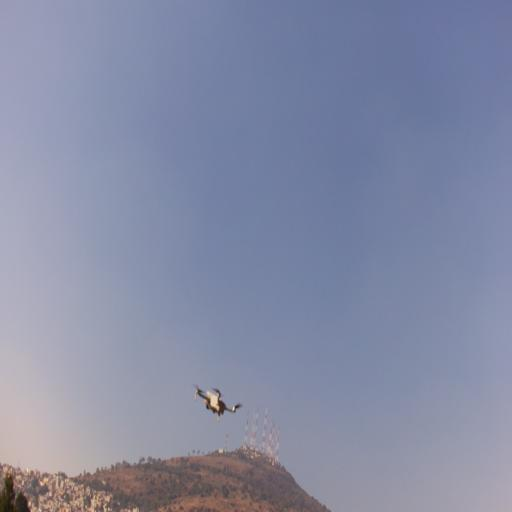drones: (191, 383, 246, 426)
